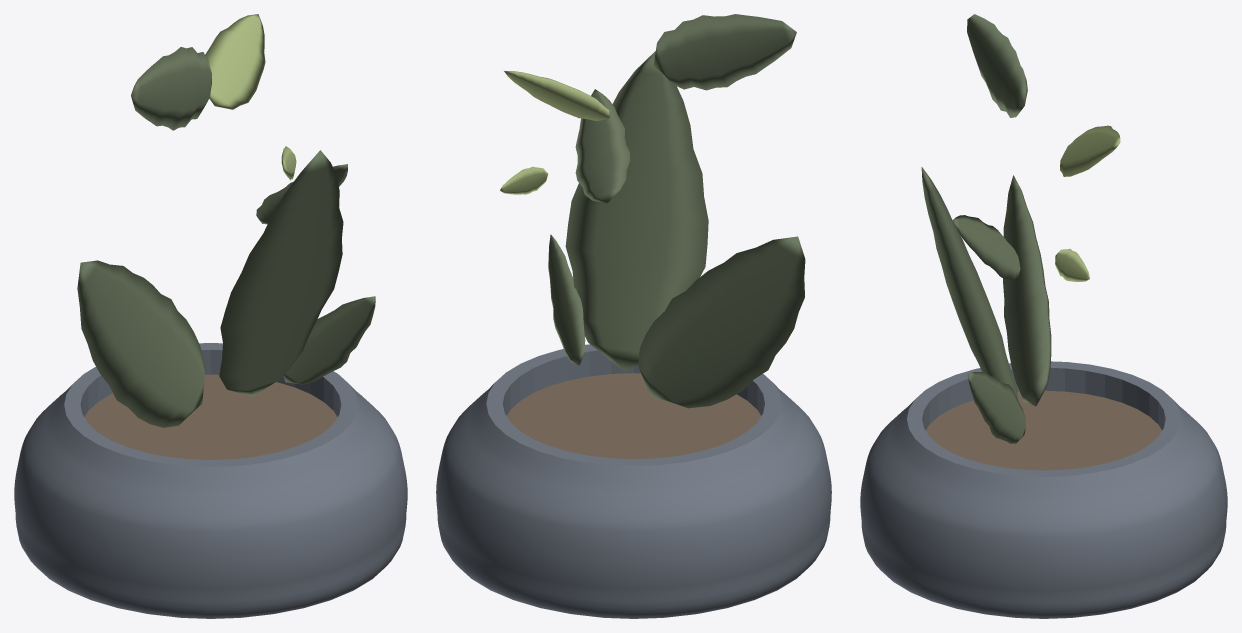
Rendered from NPR_25_1033__MOD__GardenFurniture__PlantersAndPots__PottedPlantGrey__Var-03__.glb.
3 renders of one model, left to right at view 1: azimuth 30°, elevation 25°; view 2: azimuth 150°, elevation 25°; view 3: azimuth 270°, elevation 25°, orthographic. The views are drawn at different scales.
Parts seen in each view (by area): view 1: NPR_25_1033__MOD__GardenFurniture__PlantersAndPots__PottedPl; view 2: NPR_25_1033__MOD__GardenFurniture__PlantersAndPots__PottedPl; view 3: NPR_25_1033__MOD__GardenFurniture__PlantersAndPots__PottedPl.
Boxes of the visible parts, x1=… form: NPR_25_1033__MOD__GardenFurniture__PlantersAndPots__PottedPl: x1=14, y1=14, x2=407, y2=618; NPR_25_1033__MOD__GardenFurniture__PlantersAndPots__PottedPl: x1=436, y1=14, x2=831, y2=618; NPR_25_1033__MOD__GardenFurniture__PlantersAndPots__PottedPl: x1=860, y1=14, x2=1227, y2=618.
Bounding box in the file's own units: 0.4321 × 0.6481 × 0.4321.
